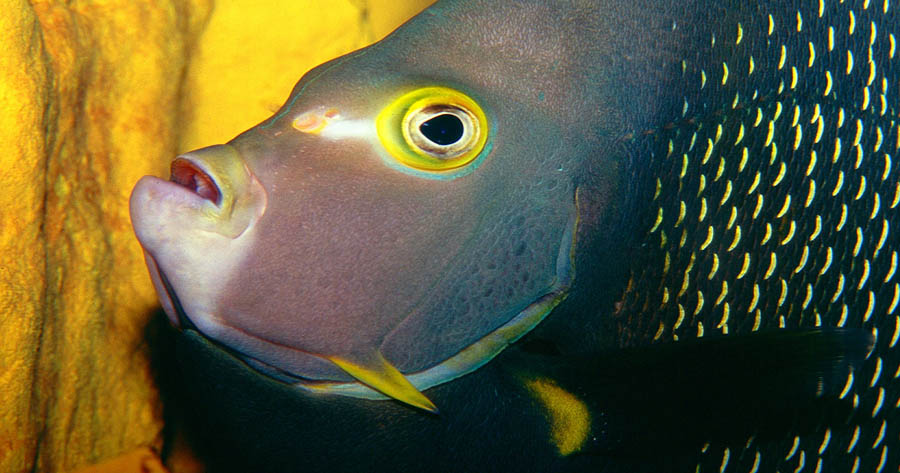Pomacanthus_paru: (108, 1, 900, 469)
